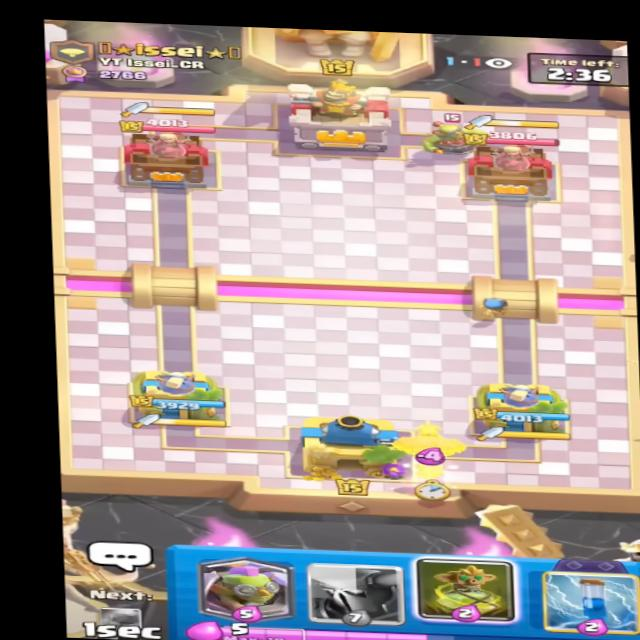Goblindemolisher: (417, 111, 492, 159)
